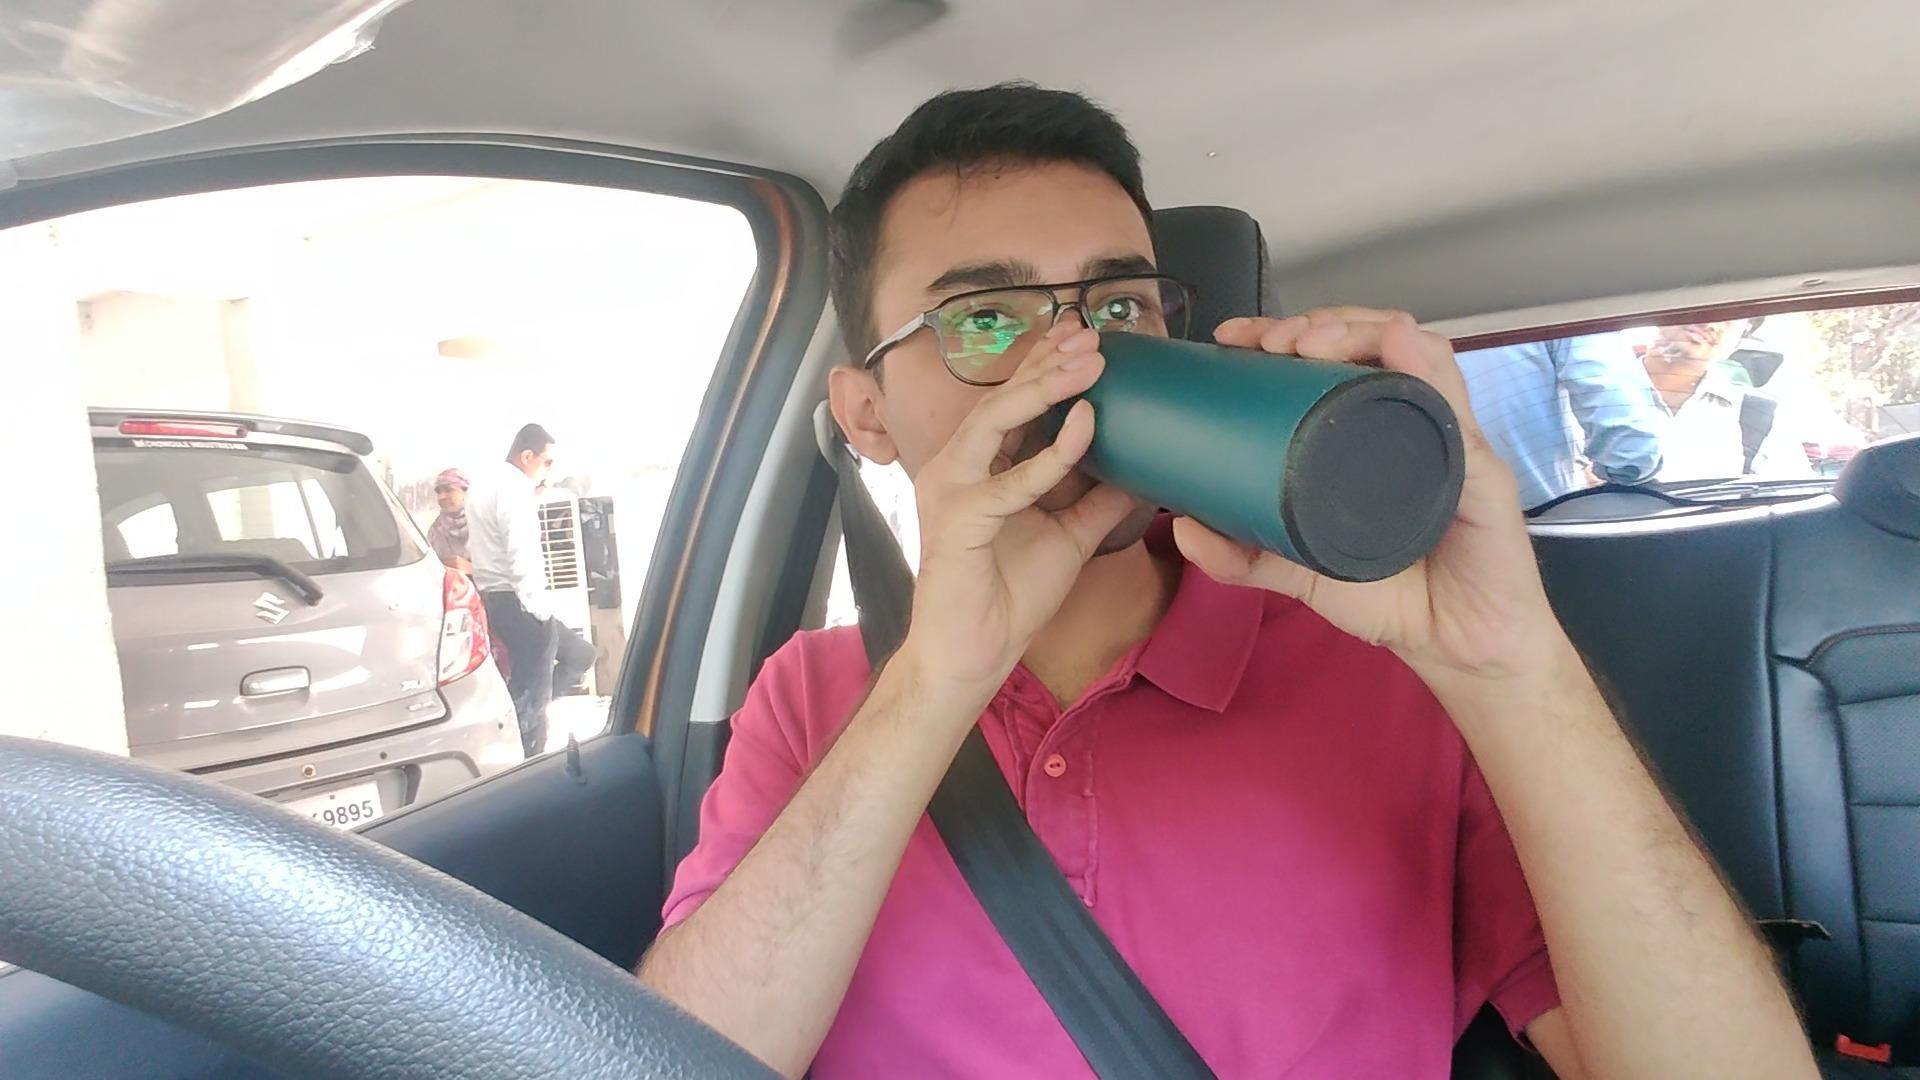Drinking: (825, 164, 1466, 641)
